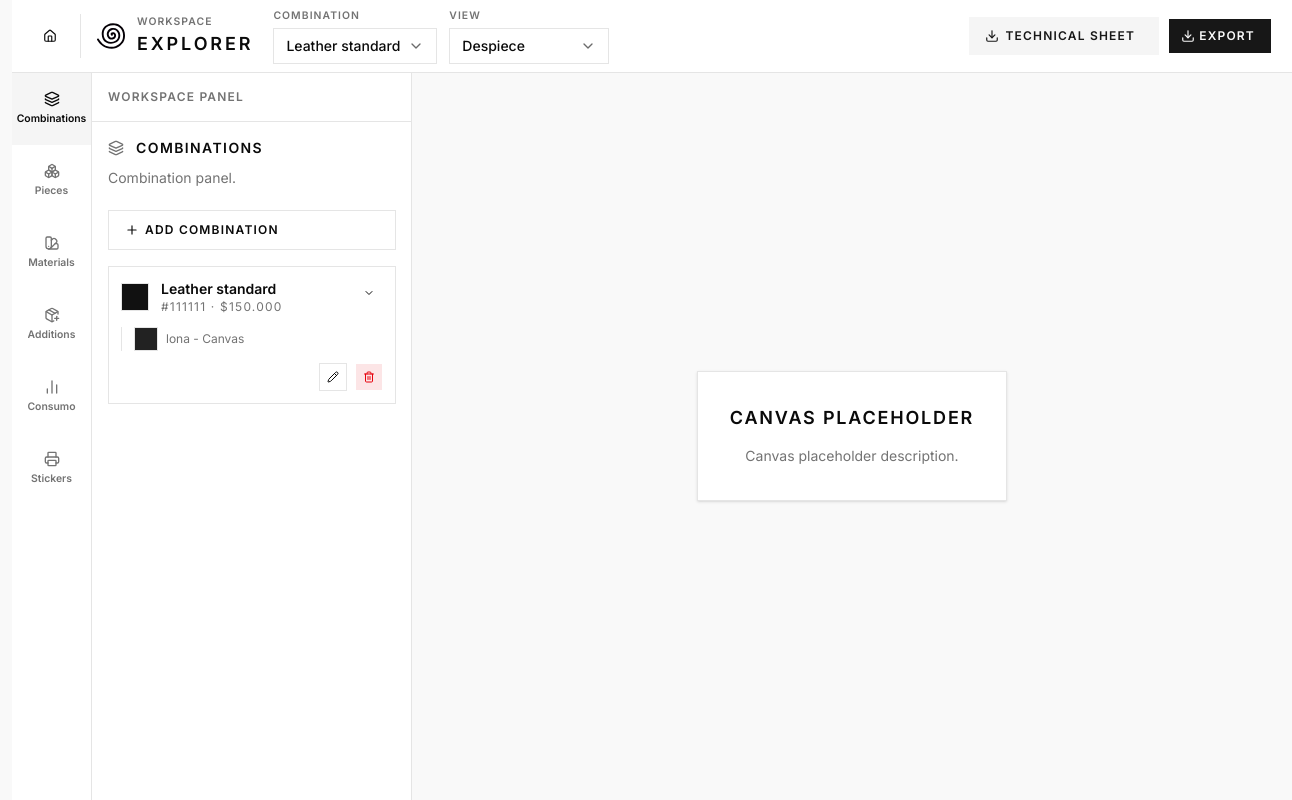
Test: ProductWorkspace › toggles and switches the active left workspace panel
Expected: the heading "Combinations" is shown, [136,138,263,158]
Click the button "Combinations": (52, 109) [12,73,91,145]
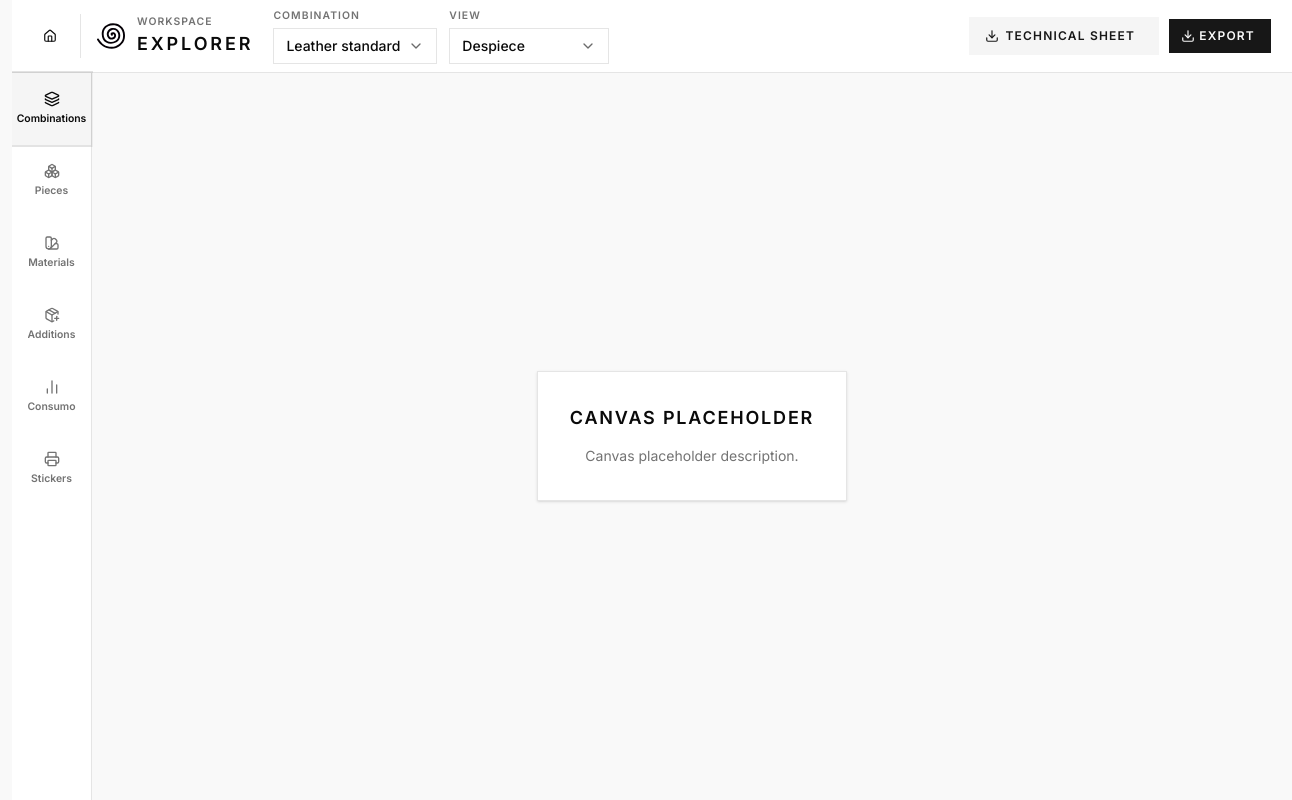
Click the button "Materials": (52, 253) [12,217,91,289]
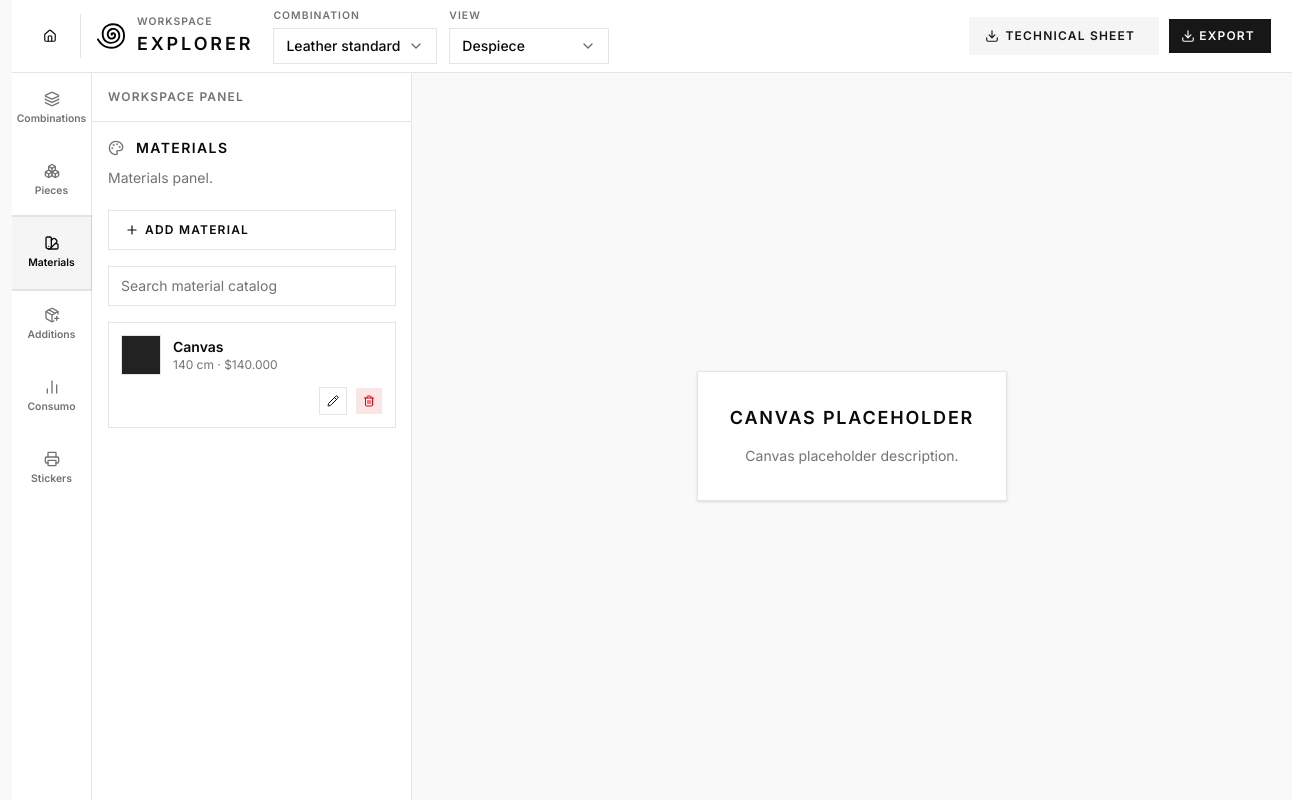
Result: the heading "Materials" is shown at [136,138,228,158]
Click the button "Consumo": (52, 397) [12,361,91,433]
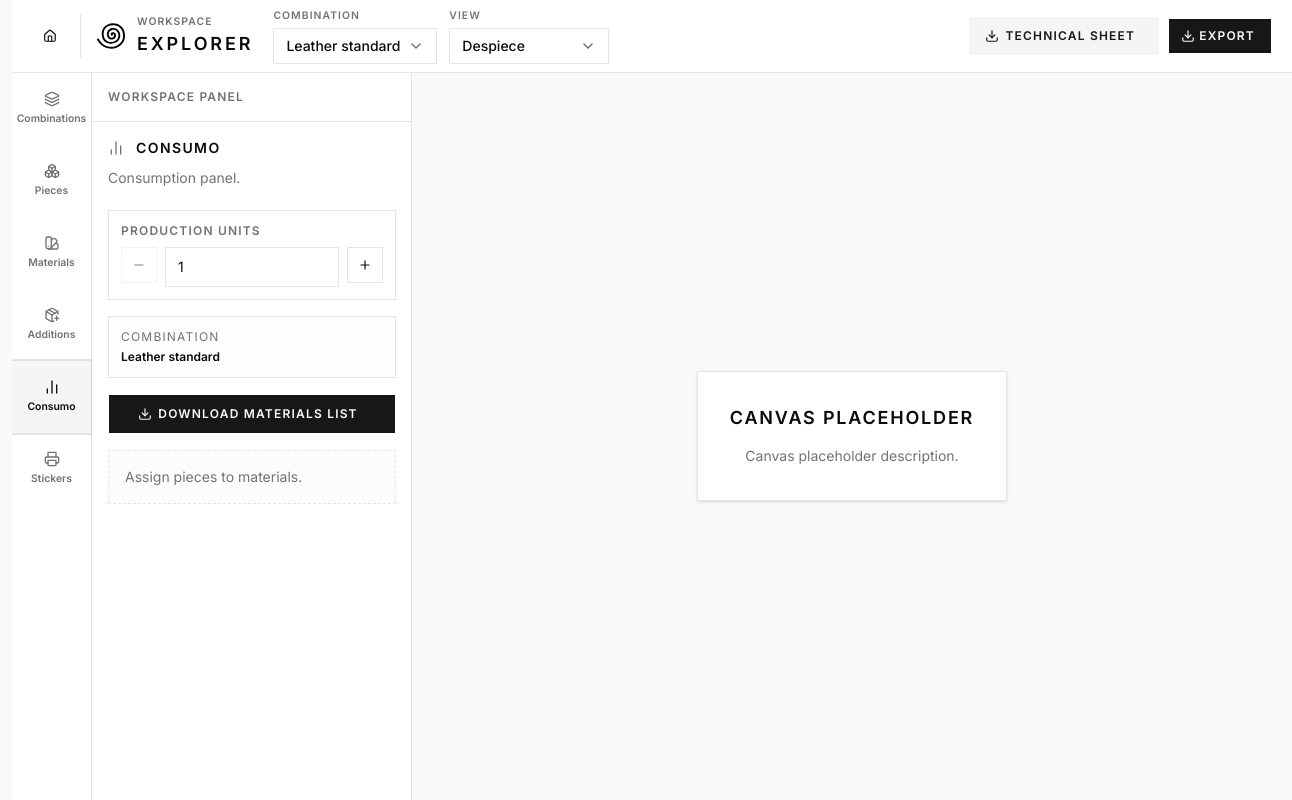
Result: the heading "Consumo" is shown at [136,138,221,158]
Result: the number field labelled "Production units" holds "1" at [165,247,339,287]
